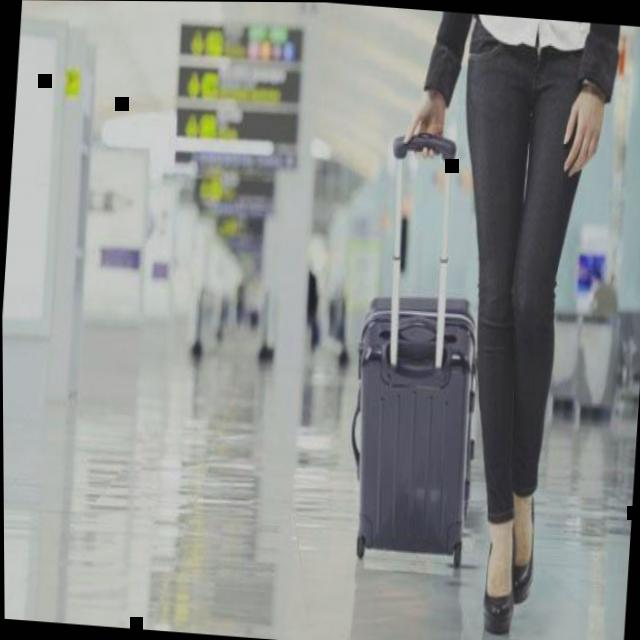luggage: (339, 283, 488, 571)
